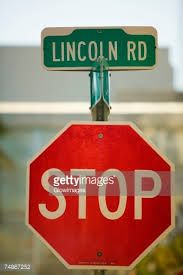stop_sign: (27, 121, 174, 268)
